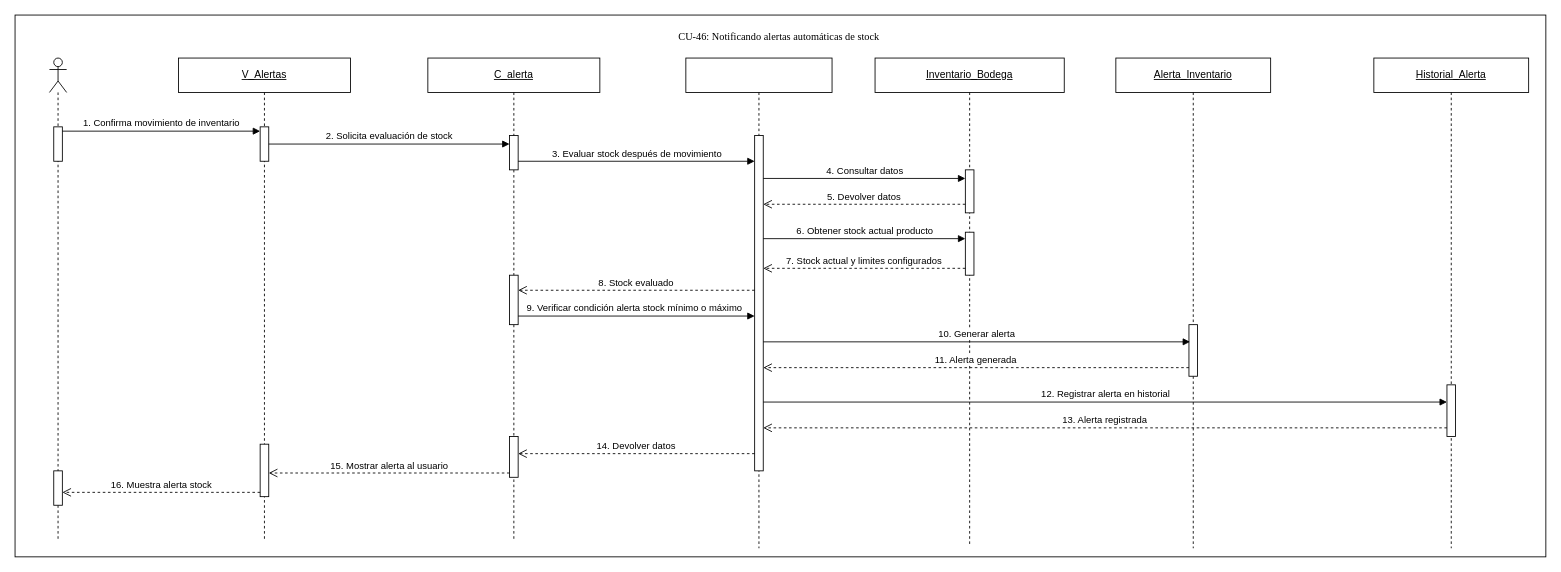
Image size: 1561x572. Some labels were removed from this diagram. Here are the shapes that lost their labels. From the top down, the box of each, then its label:
(49, 57, 67, 540): Gerencia/JOP
(685, 57, 832, 548): C_ Postgre
